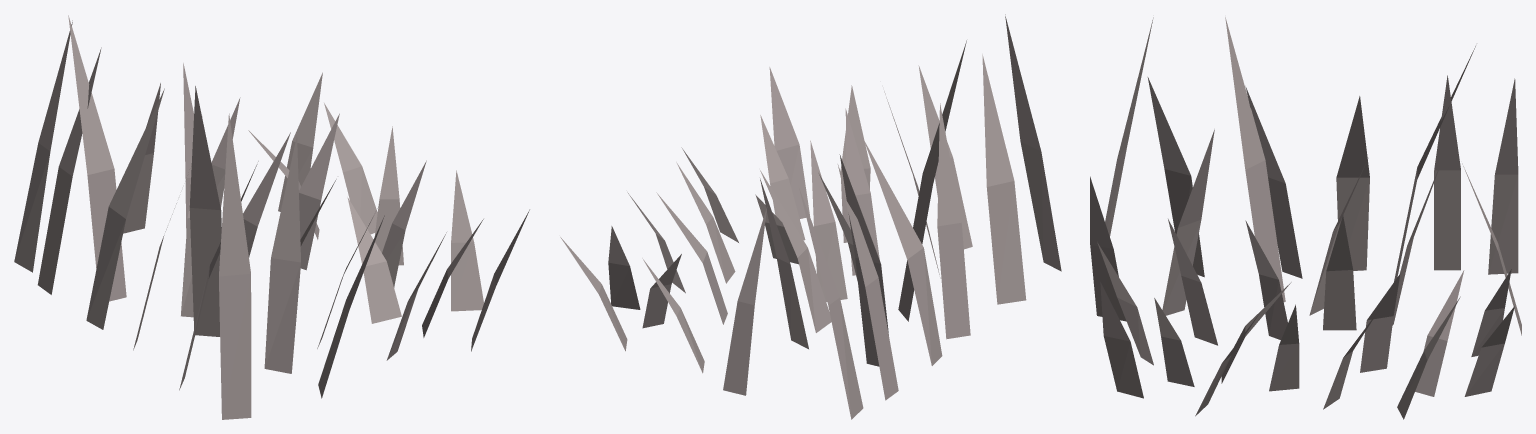
The picture shows the model from 3 angles, left to right: view 1: azimuth 30°, elevation 25°; view 2: azimuth 150°, elevation 25°; view 3: azimuth 270°, elevation 25°; orthographic projection. The views are drawn at different scales.
Bounding box in the file's own units: 106 × 89 × 128.
Materials: 1 (1 with a texture image).
